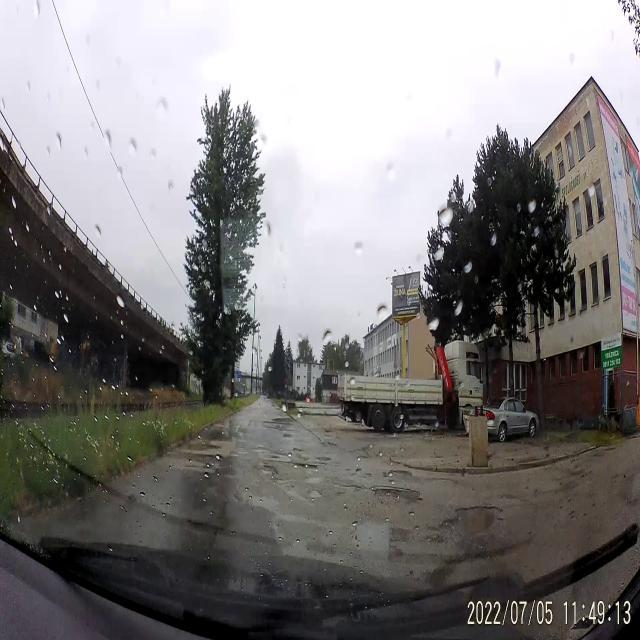Manhole: (317, 455, 332, 462)
Pothole: (440, 502, 504, 544), (373, 480, 427, 512), (382, 460, 416, 482), (334, 482, 362, 497), (260, 461, 280, 481), (430, 475, 458, 488), (295, 458, 318, 472), (305, 488, 322, 500), (320, 439, 338, 448), (356, 452, 369, 462), (292, 446, 304, 455), (268, 455, 280, 460), (344, 466, 352, 473), (362, 473, 373, 478), (355, 468, 363, 473)
